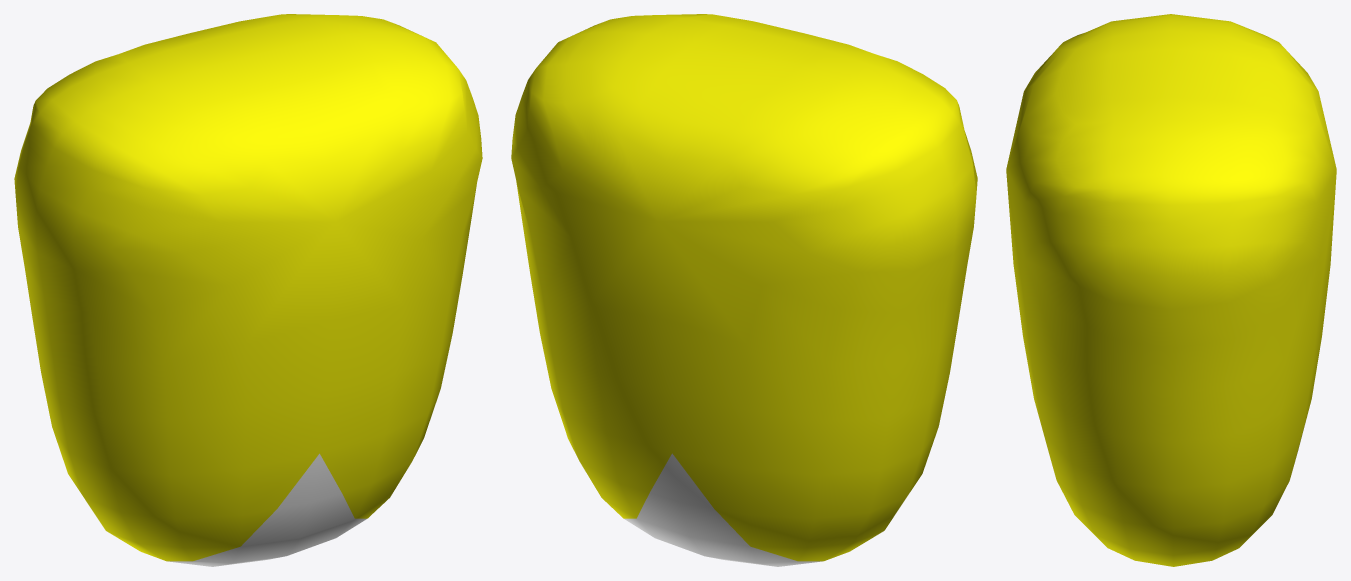
File: Corn_Kernels.fbx
3 renders of one model, left to right at view 1: azimuth 30°, elevation 25°; view 2: azimuth 150°, elevation 25°; view 3: azimuth 270°, elevation 25°, orthographic. The views are drawn at different scales.
Parts seen in each view (by area): view 1: Corn_Kernels; view 2: Corn_Kernels; view 3: Corn_Kernels.
Boxes of the visible parts, x1,y1,x2,y2 form: Corn_Kernels: [14, 14, 482, 566]; Corn_Kernels: [511, 14, 977, 566]; Corn_Kernels: [1006, 14, 1336, 566].
Bounding box in the file's own units: 62.21 × 68.99 × 44.06.
